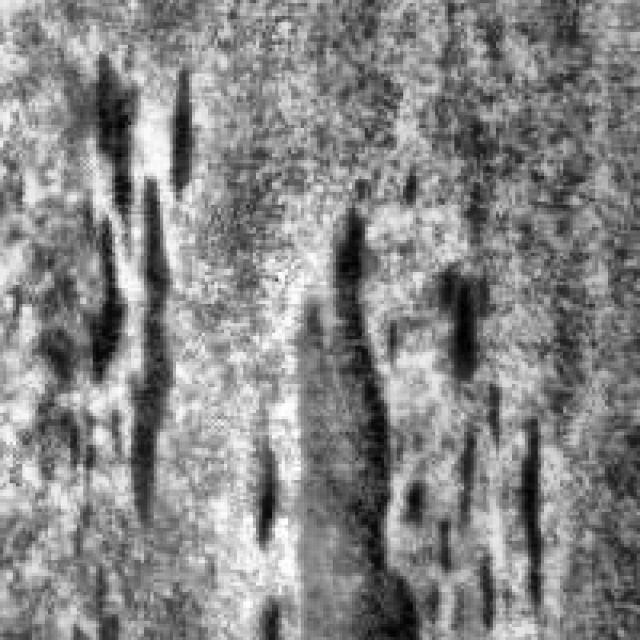Patches: (240, 195, 448, 637), (32, 38, 195, 544), (400, 378, 544, 636), (422, 250, 496, 384)
